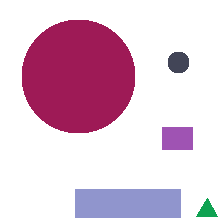circle: (22, 20, 134, 132), (168, 52, 188, 72)
rectangle: (75, 189, 180, 217), (162, 127, 192, 149)
triangle: (196, 198, 217, 216)
